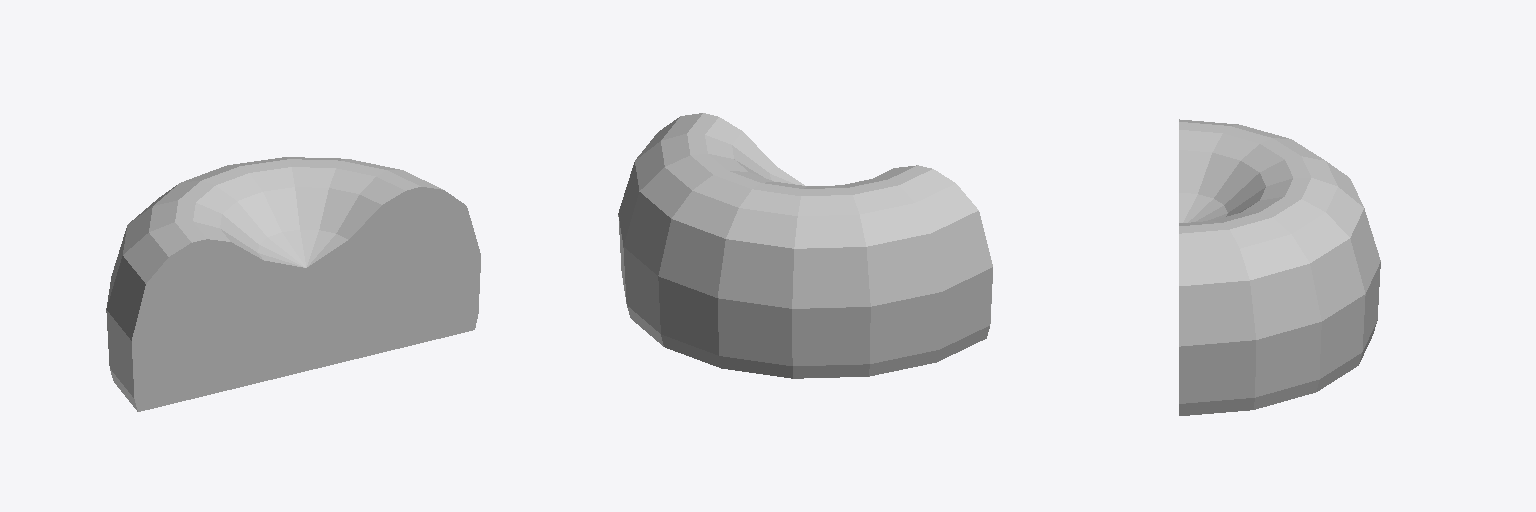
The model's file is Manzana-1_4A.obj.
3 views of the same model, side by side, from view 1: azimuth 30°, elevation 25°; view 2: azimuth 150°, elevation 25°; view 3: azimuth 270°, elevation 25° (orthographic).
Parts seen in each view (by area): view 1: Manzana-1_4A_Sphere.006; view 2: Manzana-1_4A_Sphere.006; view 3: Manzana-1_4A_Sphere.006.
Part boxes in pixels (bbox=[...]): Manzana-1_4A_Sphere.006: bbox=[106, 157, 480, 411]; Manzana-1_4A_Sphere.006: bbox=[618, 113, 992, 378]; Manzana-1_4A_Sphere.006: bbox=[1179, 119, 1380, 415].
Bounding box in the file's own units: 3.67 × 1.57 × 1.83.